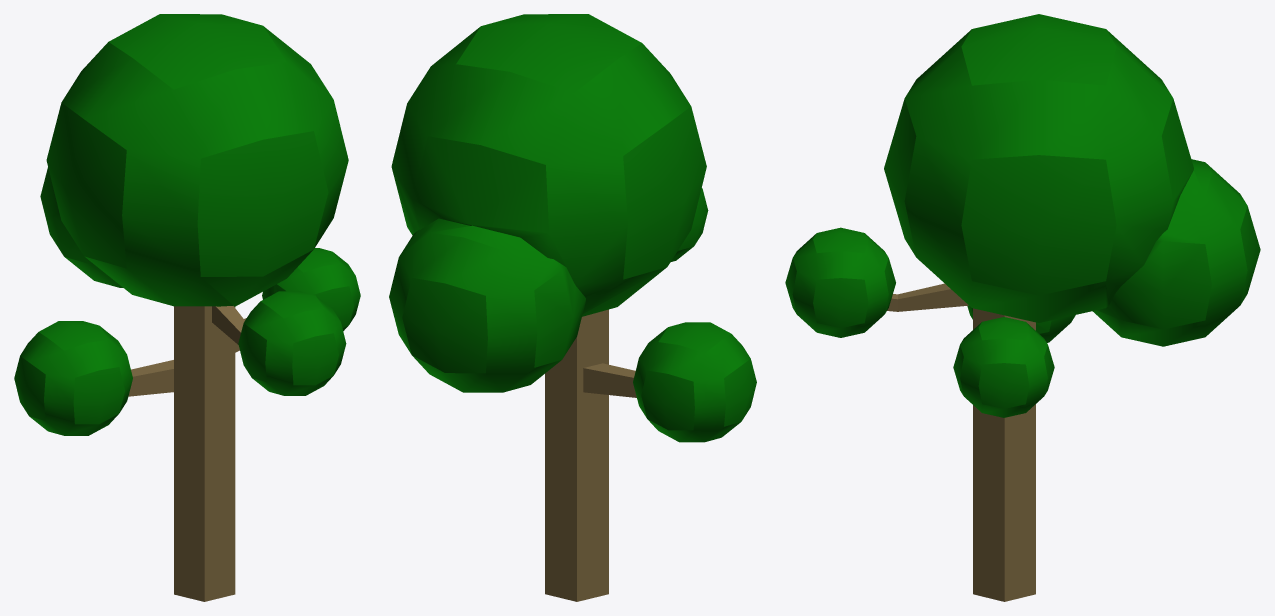
The model's file is ArbolLowPoly2.fbx.
The picture shows the model from 3 angles, left to right: view 1: azimuth 30°, elevation 25°; view 2: azimuth 150°, elevation 25°; view 3: azimuth 270°, elevation 25°; orthographic projection. The views are drawn at different scales.
Visible parts, largest first — view 1: polySurface2; view 2: polySurface2; view 3: polySurface2.
Boxes of the visible parts, x1,y1,x2,y2 form: polySurface2: (14, 14, 360, 601); polySurface2: (389, 14, 756, 601); polySurface2: (785, 14, 1260, 601).
Bounding box in the file's own units: 10.53 × 17.11 × 13.08.
